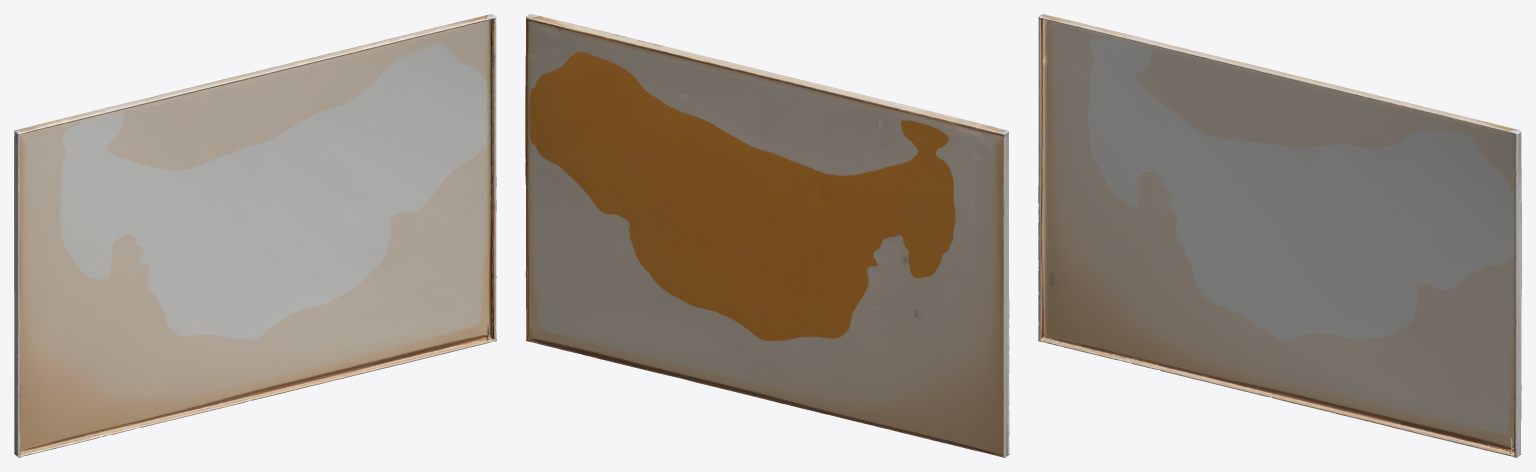
File: Bronze getöntes Glass_1752135819431.glb
3 views of the same model, side by side, from view 1: azimuth 30°, elevation 25°; view 2: azimuth 150°, elevation 25°; view 3: azimuth 330°, elevation 25° (orthographic).
Bounding box in the file's own units: 2 × 1.3 × 0.0397.
Materials: 1 (1 with a texture image).
